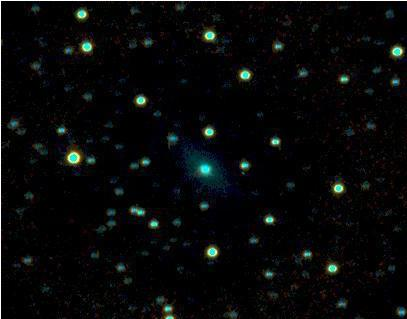star: (229, 155, 259, 185)
